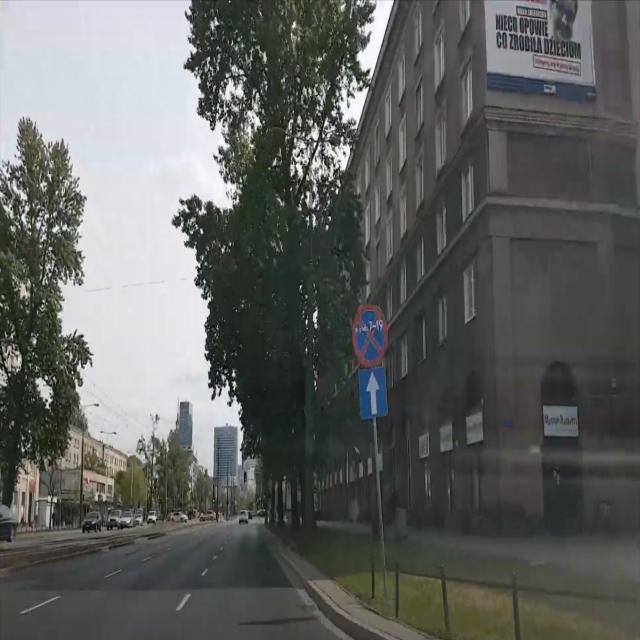Zakaz zatrzymywania sie: (352, 304, 388, 364)
